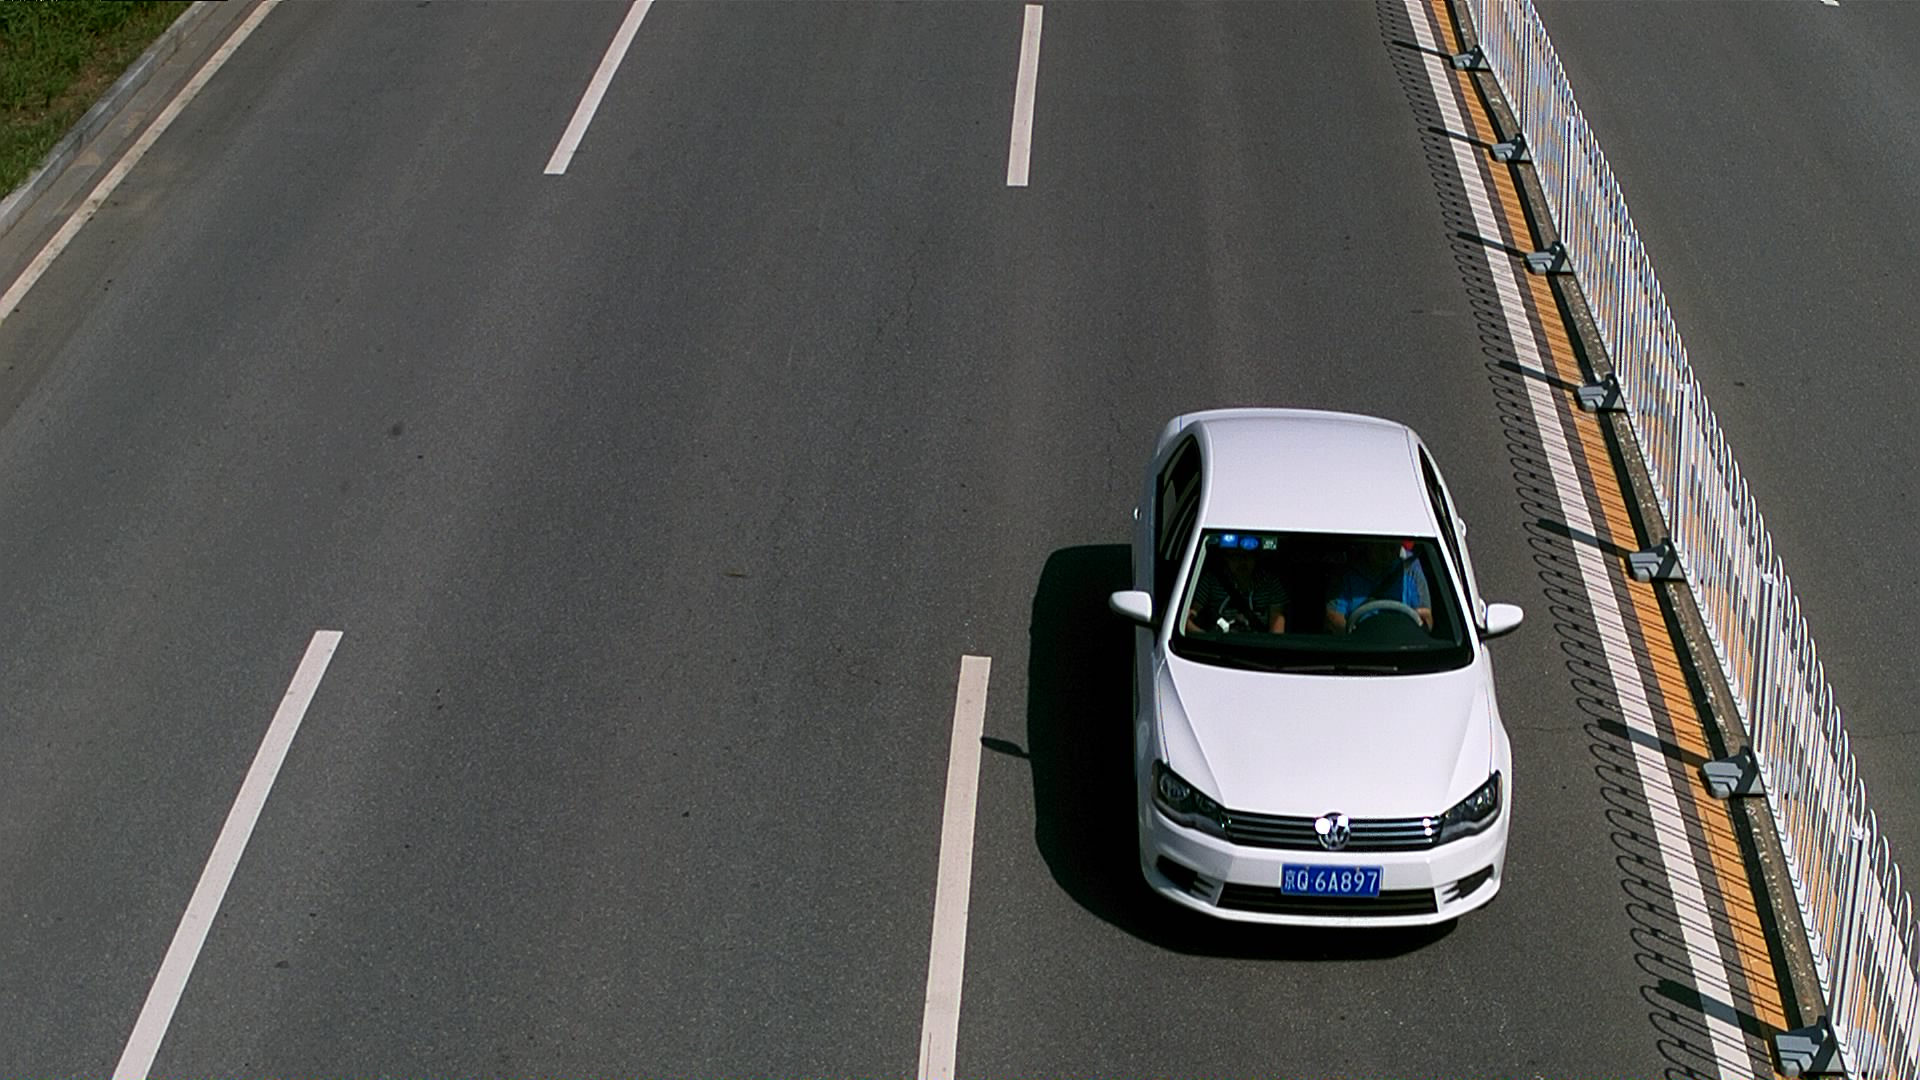car: (1104, 397, 1536, 961)
